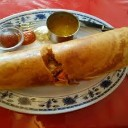dosa: (1, 26, 127, 96)
